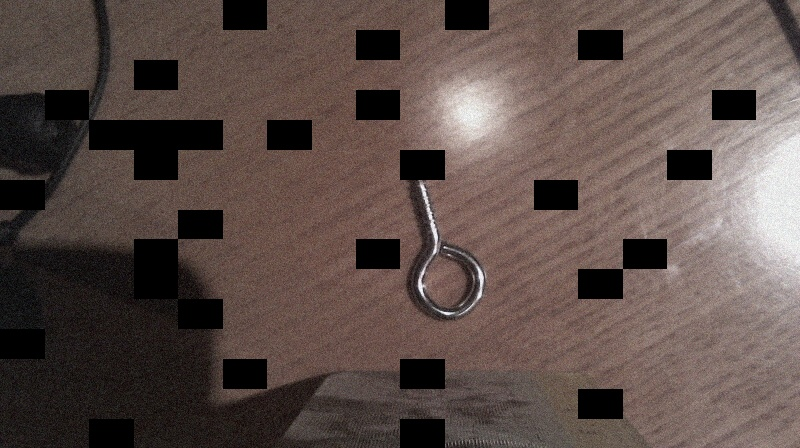O001: (400, 168, 489, 321)
